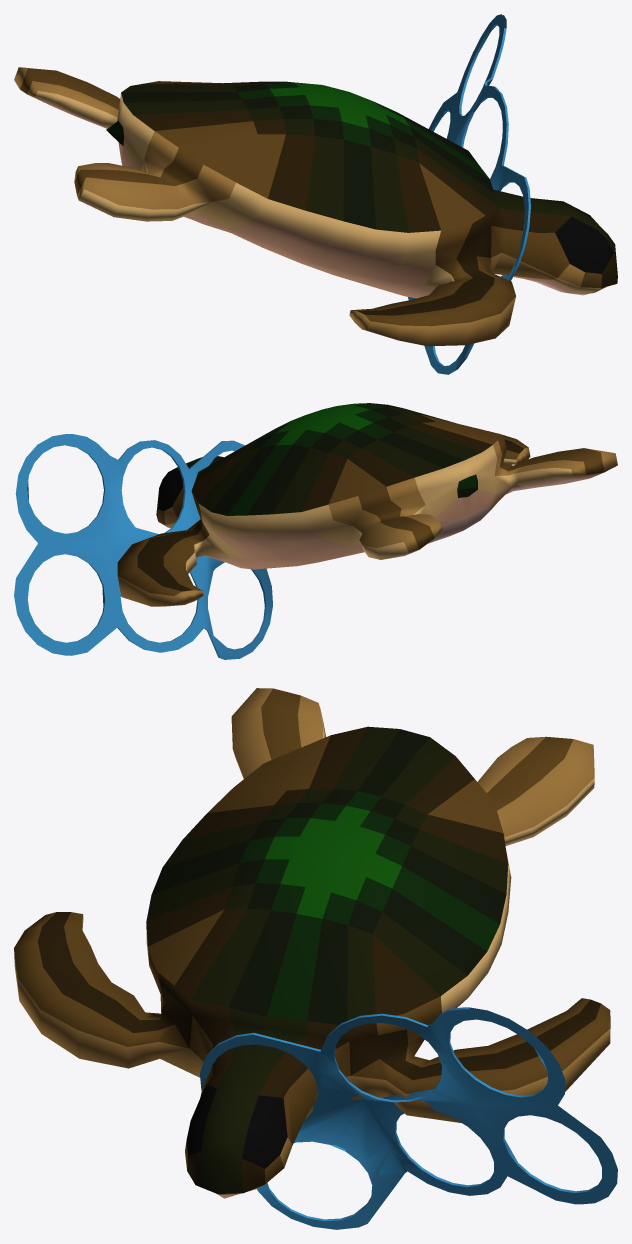
The model's file is turtleC.obj.
3 views of the same model, one above another, from view 1: azimuth 30°, elevation 25°; view 2: azimuth 150°, elevation 25°; view 3: azimuth 270°, elevation 25° (orthographic). The views are drawn at different scales.
Parts seen in each view (by area): view 1: turtle2; view 2: turtle2; view 3: turtle2.
Boxes of the visible parts, x1,y1,x2,y2 form: turtle2: (14, 14, 617, 374); turtle2: (14, 403, 617, 659); turtle2: (14, 688, 617, 1229).
Bounding box in the file's own units: 7.54 × 4.14 × 6.53.
